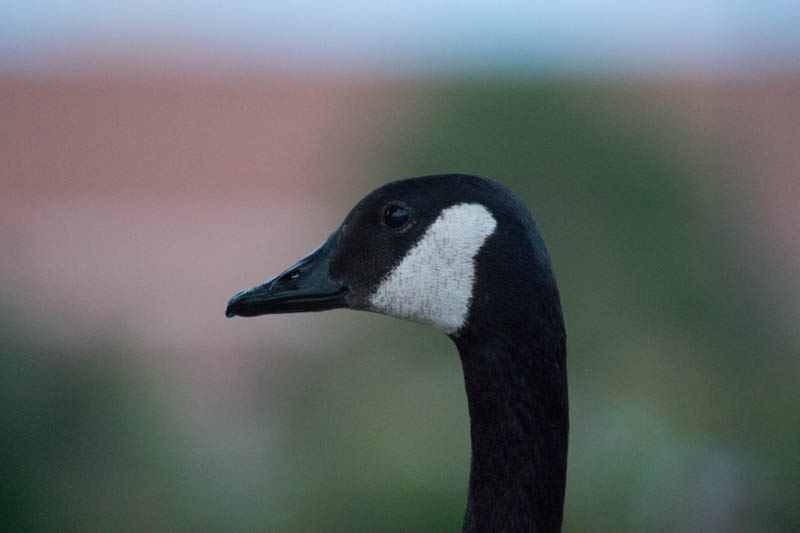goose-head: (224, 171, 563, 344)
